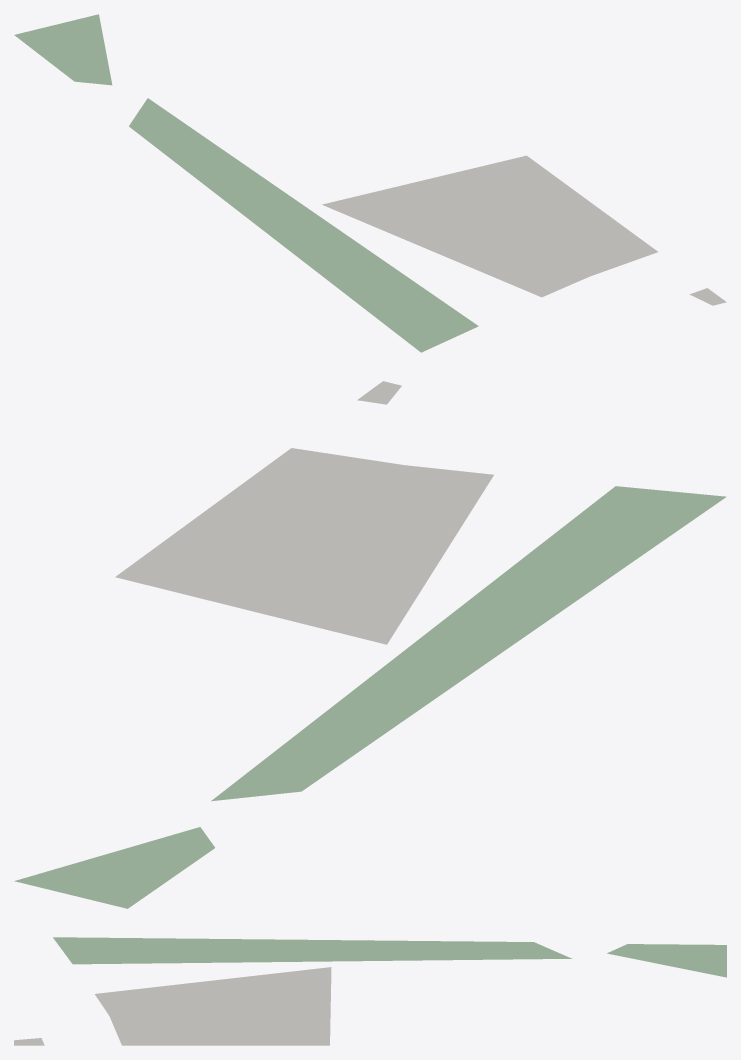
Rendered from 120_66_mid.glb.
The picture shows the model from 3 angles, top to bottom: view 1: azimuth 30°, elevation 25°; view 2: azimuth 150°, elevation 25°; view 3: azimuth 270°, elevation 25°; orthographic projection. The views are drawn at different scales.
Size of the model in its own units: 180 by 0.1869 by 500.
